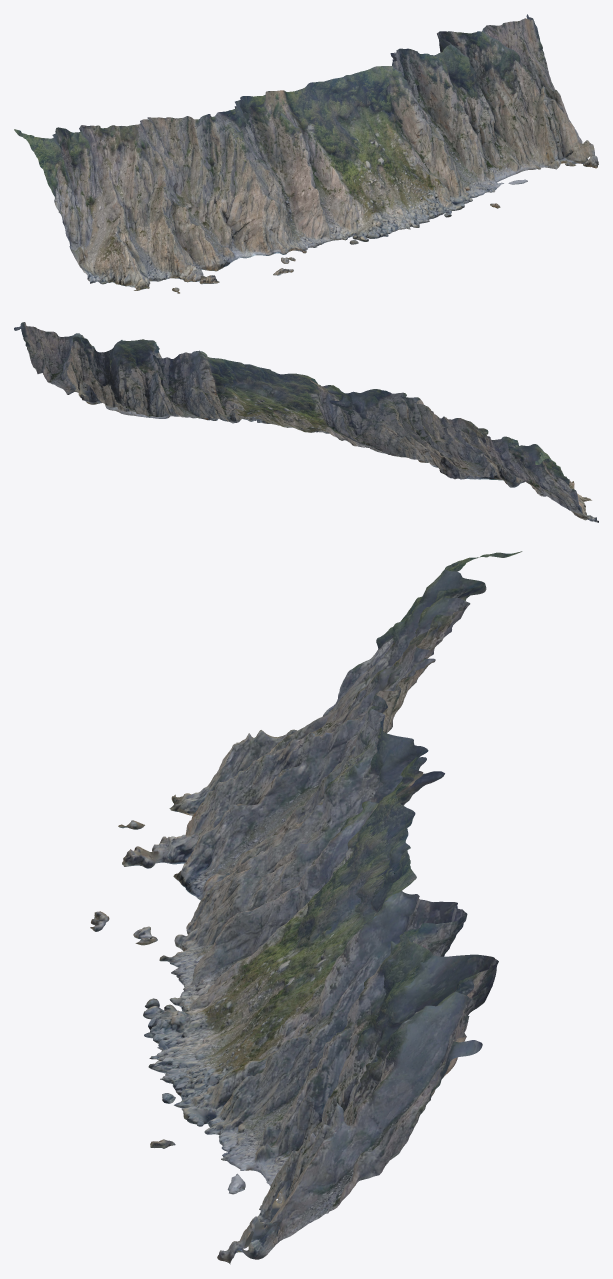
File: rocky_coast_of_the_sea_of_japan_n6._fragment.glb
The picture shows the model from 3 angles, top to bottom: view 1: azimuth 30°, elevation 25°; view 2: azimuth 150°, elevation 25°; view 3: azimuth 270°, elevation 25°; orthographic projection. The views are drawn at different scales.
Visible parts, largest first — view 1: Object_3; view 2: Object_3; view 3: Object_3.
Part boxes in pixels (left/top/right/bottom): Object_3: left=14, top=14, right=598, bottom=293; Object_3: left=14, top=322, right=598, bottom=522; Object_3: left=90, top=551, right=522, bottom=1264.
Size of the model in its own units: 2.85 by 0.5735 by 1.04.
1 material, 1 textured.
